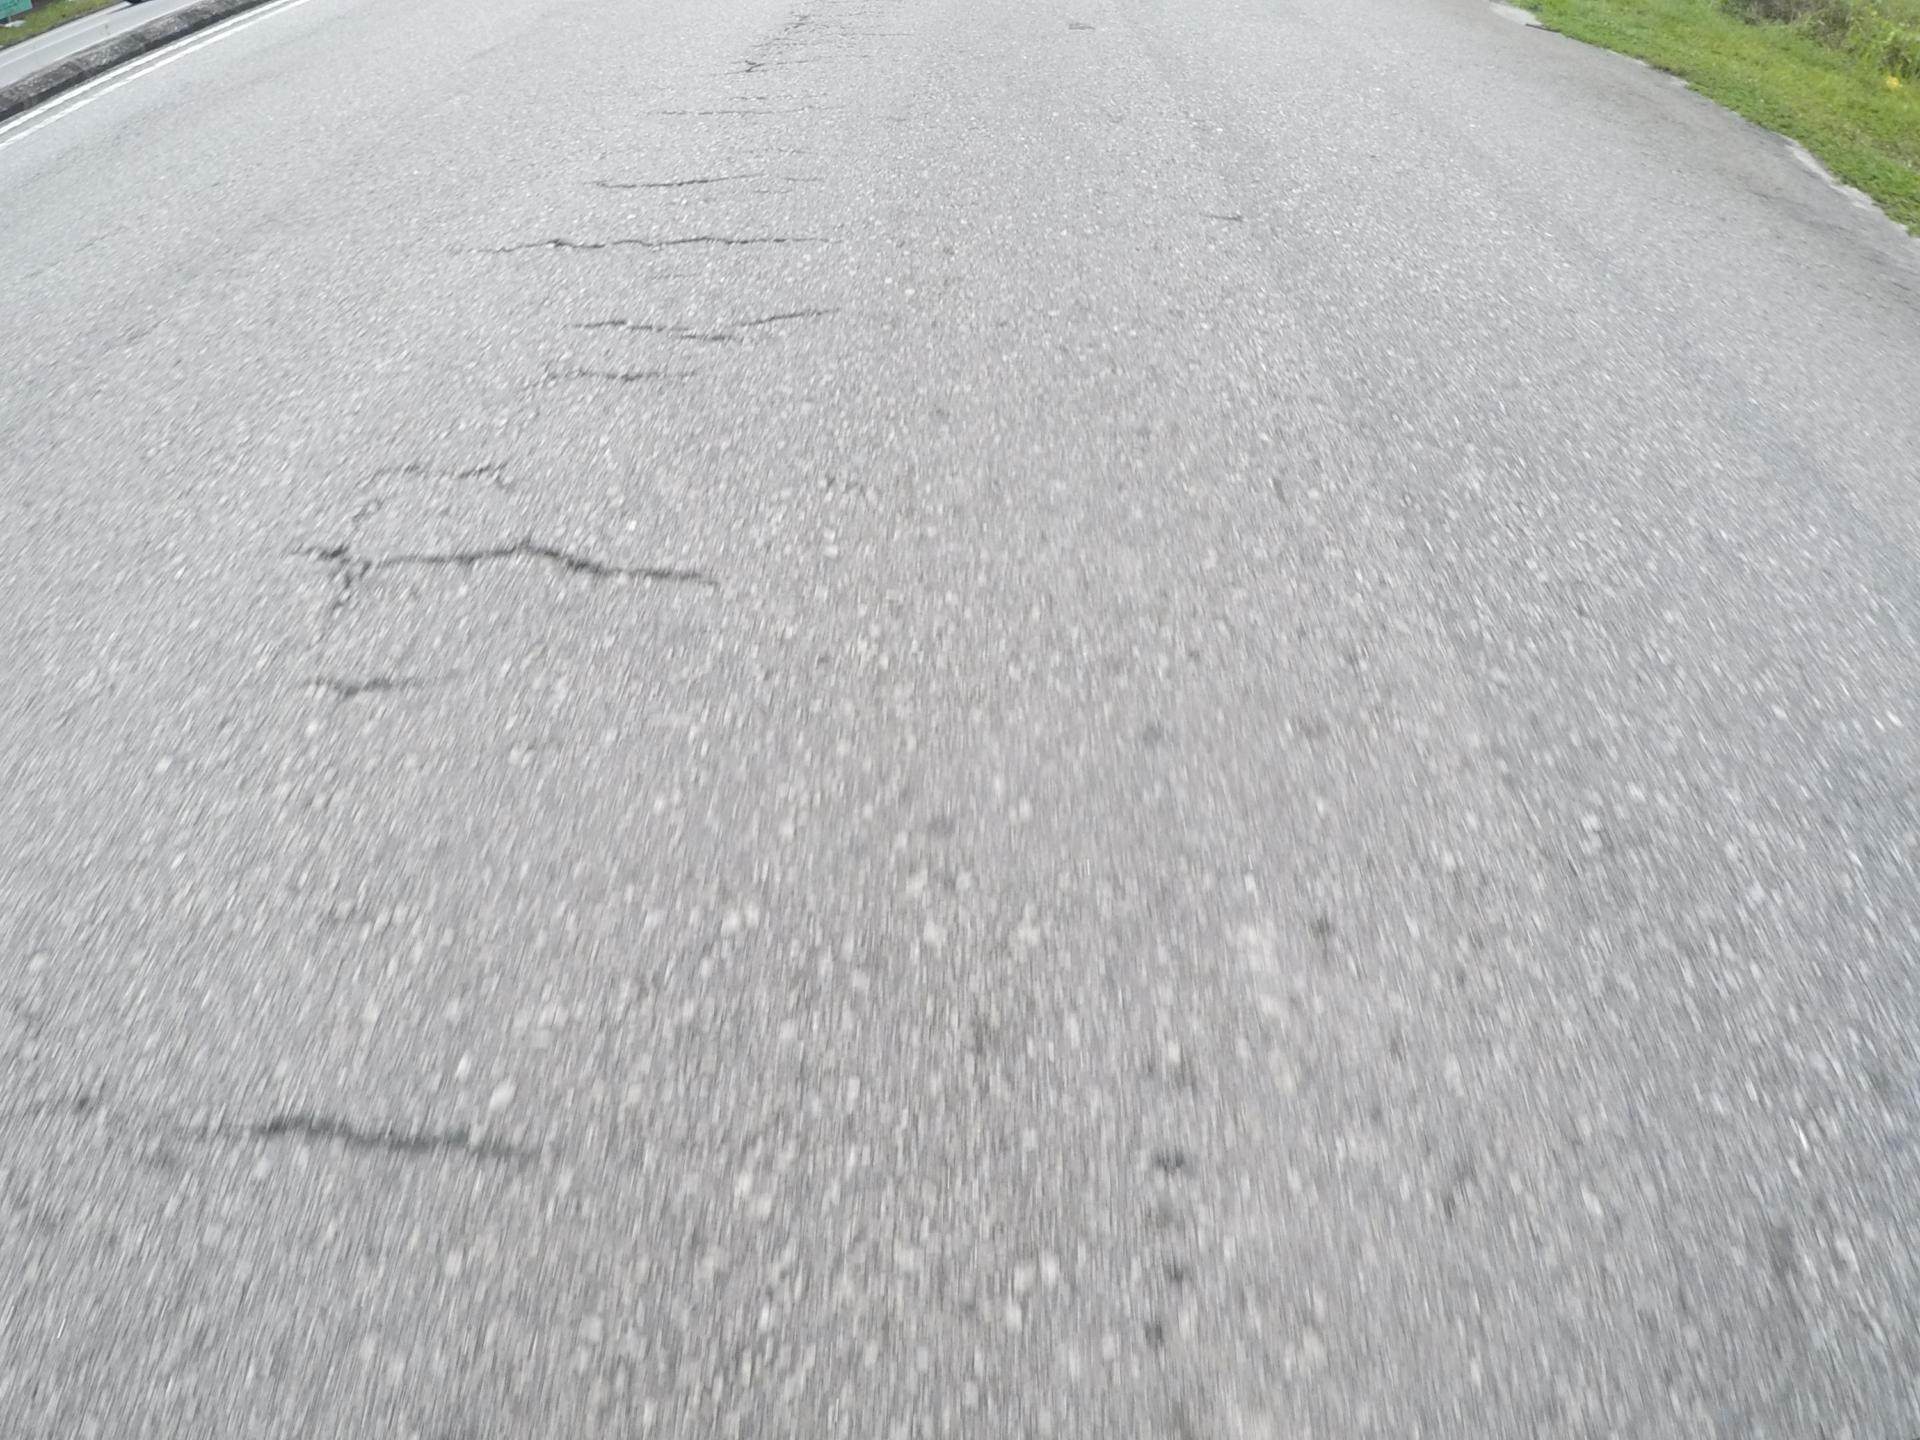transverse: (351, 534, 750, 607), (455, 225, 844, 266), (544, 296, 860, 346), (588, 160, 839, 200)
